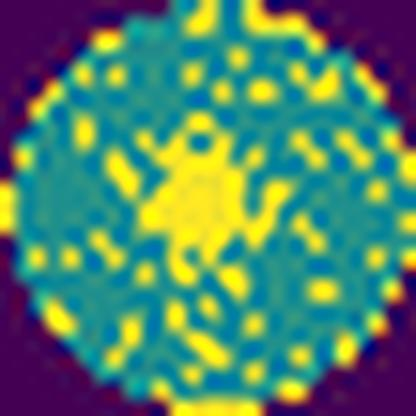Center: (105, 101, 300, 298)
